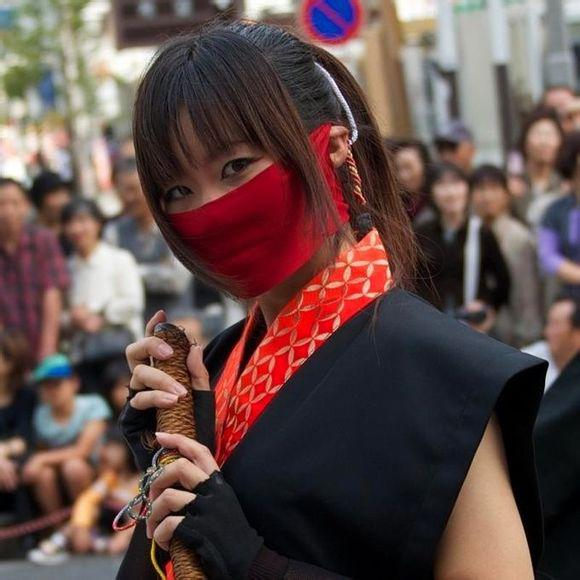OK: (158, 122, 330, 286)
